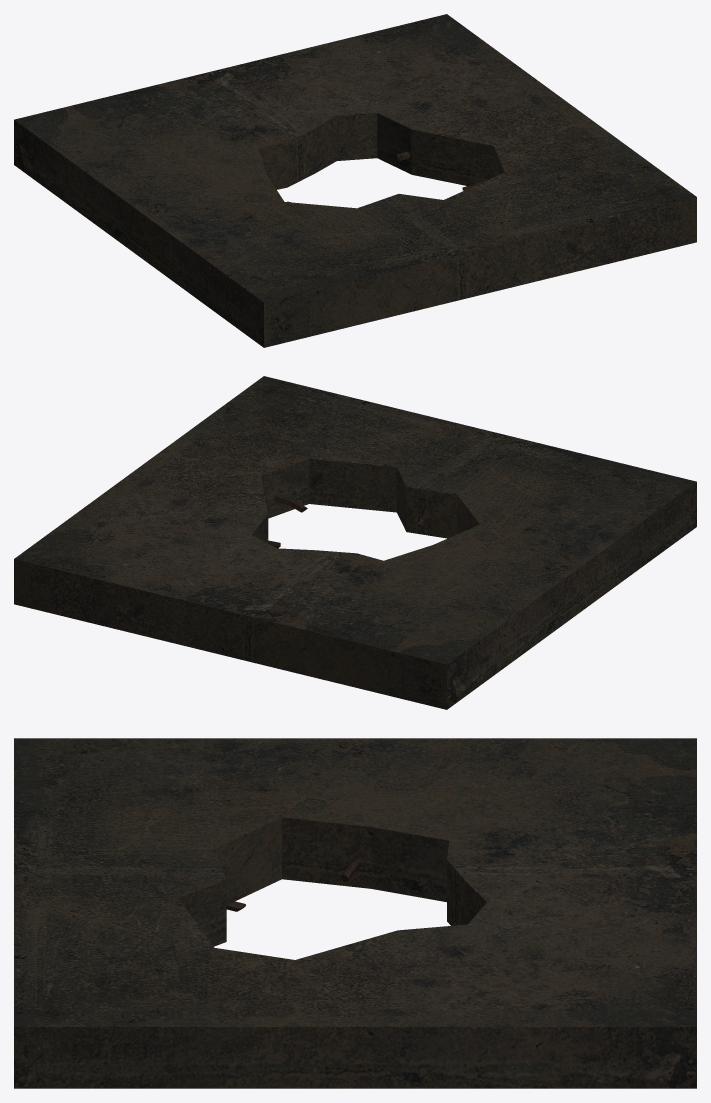
The model's file is floor_ceiling_hr_2.obj.
3 renders of one model, top to bottom at view 1: azimuth 30°, elevation 25°; view 2: azimuth 150°, elevation 25°; view 3: azimuth 270°, elevation 25°, orthographic. The views are drawn at different scales.
Parts seen in each view (by area): view 1: floor_ceiling_hr_2; view 2: floor_ceiling_hr_2; view 3: floor_ceiling_hr_2.
Boxes of the visible parts, x1,y1,x2,y2 form: floor_ceiling_hr_2: [14, 14, 696, 347]; floor_ceiling_hr_2: [14, 376, 696, 709]; floor_ceiling_hr_2: [14, 738, 696, 1088].
Size of the model in its own units: 4 by 0.4 by 4.
